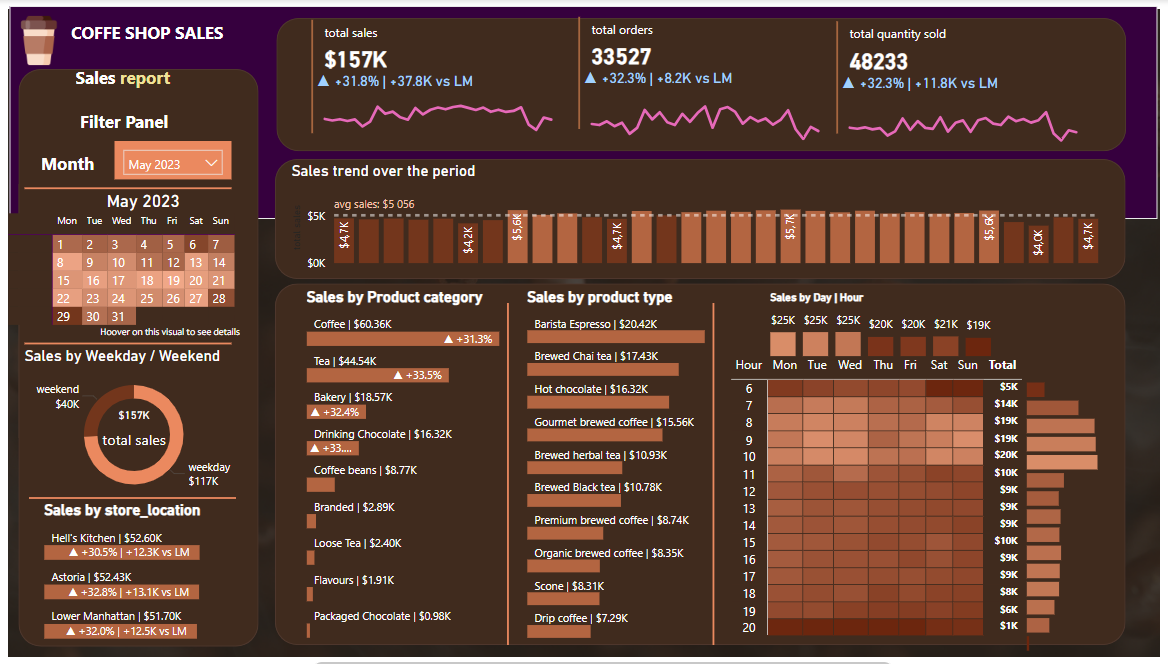

The dashboard page shown, as its layout file describes it:
{"tool":"powerbi","page":{"name":"Page 1","canvas":[3000,2000],"ordinal":0},"visuals":[{"type":"shape","box":[861.7,633.3,1275,236.7],"z":0},{"type":"image","box":[861.7,638.3,65,66.7],"z":1000},{"type":"textbox","box":[925,645,272.5,75],"z":2000},{"type":"shape","box":[871.7,703.3,266.7,641.7],"z":3000},{"type":"shape","box":[1158,646,944,148],"z":4000},{"type":"shape","box":[1156.7,803.3,945,133.3],"z":5000},{"type":"shape","box":[1156.7,941.7,945,401.7],"z":6000},{"type":"cardVisual","fields":{"Data":["Coffee Shop Sales.Total orders"]},"box":[1489,639.5,300,135.1],"z":7000,"group":"g2"},{"type":"cardVisual","fields":{"Data":["Coffee Shop Sales.tot"]},"box":[1192,642.8,300,136.7],"z":7000,"group":"g3"},{"type":"cardVisual","fields":{"Data":["Coffee Shop Sales.total quantity sold"]},"box":[1775.3,644.4,300,135.1],"z":7000,"group":"g4"},{"type":"slicer","fields":{"Values":["Date table.Month year"]},"box":[977.5,782.5,130,42.5],"z":7000},{"type":"group","id":"g1","title":"Group 1","box":[1192,642.8,300,148.3],"z":8000},{"type":"group","id":"g2","title":"Group 2","box":[1489,639.5,300,146.7],"z":9000},{"type":"lineChart","fields":{"Category":["Date table.Date.Variation.Date Hierarchy.Year","Date table.Date.Variation.Date Hierarchy.Quarter","Date table.Date.Variation.Date Hierarchy.Month","Date table.Date.Variation.Date Hierarchy.Day"],"Y":["Coffee Shop Sales.total orders"]},"box":[1494,702.1,281.7,84],"z":9000,"group":"g2"},{"type":"lineChart","fields":{"Y":["Coffee Shop Sales.total sales"],"Category":["Date table.Date.Variation.Date Hierarchy.Year","Date table.Date.Variation.Date Hierarchy.Quarter","Date table.Date.Variation.Date Hierarchy.Month","Date table.Date.Variation.Date Hierarchy.Day"]},"box":[1197,706.1,281.7,85],"z":9000,"group":"g3"},{"type":"lineChart","fields":{"Category":["Date table.Date.Variation.Date Hierarchy.Year","Date table.Date.Variation.Date Hierarchy.Quarter","Date table.Date.Variation.Date Hierarchy.Month","Date table.Date.Variation.Date Hierarchy.Day"],"Y":["Coffee Shop Sales.total quantity sold"]},"box":[1780.3,707,281.7,84],"z":9000,"group":"g4"},{"type":"group","id":"g3","title":"Group 2","box":[1192,642.8,300,148.3],"z":9002,"group":"g1"},{"type":"group","id":"g4","title":"Group 2","box":[1775.3,644.4,300,146.7],"z":10000},{"type":"pivotTable","fields":{"Rows":["Date table.week number"],"Columns":["Date table.Day Name"],"Values":["Min(Date table.Day Number)"]},"box":[855,857.5,277.5,145],"z":11000},{"type":"shape","box":[877.5,817.5,230,35],"z":12000},{"type":"shape","box":[877.5,982.5,230,50],"z":13000},{"type":"card","fields":{"Values":["Min(Date table.Month year)"]},"box":[895,815,230,70],"z":14000},{"type":"card","fields":{"Values":["Coffee Shop Sales.Foot note"]},"box":[947.5,980,182.5,35],"z":15000},{"type":"donutChart","title":"Sales by Weekday / Weekend","fields":{"Category":["Date table.weekday / weekend"],"Y":["Coffee Shop Sales.total sales"]},"box":[874,1012,252,176],"z":16000},{"type":"card","fields":{"Values":["Coffee Shop Sales.total sales"]},"box":[944.5,1070.4,109.5,59.9],"z":17000},{"type":"clusteredBarChart","title":"Sales by store_location","fields":{"Y":["Coffee Shop Sales.placeholder","Coffee Shop Sales.total sales"],"Category":["Coffee Shop Sales.store_location"]},"box":[895,1182.5,210,160],"z":18000},{"type":"shape","box":[883.3,1156.7,230,46.7],"z":19000},{"type":"columnChart","title":"Sales trend over the period","fields":{"Category":["Coffee Shop Sales.transaction_date"],"Y":["Coffee Shop Sales.total sales"]},"box":[1170,806,906,126],"z":20000},{"type":"clusteredBarChart","title":"Sales by Product category","fields":{"Y":["Coffee Shop Sales.placeholder","Coffee Shop Sales.total sales"],"Category":["Coffee Shop Sales.product_category"]},"box":[1186,946,256,394],"z":21000},{"type":"clusteredBarChart","title":"Sales by product type","fields":{"Y":["Coffee Shop Sales.placeholder","Coffee Shop Sales.total sales"],"Category":["Coffee Shop Sales.product_type"]},"box":[1432,946,242,394],"z":22000},{"type":"shape","box":[1400.2,962.8,31,380.3],"z":23000},{"type":"shape","box":[1627.9,962.8,31,380.3],"z":24000},{"type":"pivotTable","fields":{"Rows":["Coffee Shop Sales.Hour"],"Columns":["Date table.Day Name"],"Values":["Coffee Shop Sales.total sales"]},"box":[1658,1016,346,334],"z":25000},{"type":"barChart","fields":{"Category":["Coffee Shop Sales.Hour"],"Y":["Coffee Shop Sales.total sales"]},"box":[1986,1038,90,316],"z":26000},{"type":"columnChart","title":"Sales by Day | Hour","fields":{"Y":["Coffee Shop Sales.total sales"],"Category":["Date table.Day Name"]},"box":[1702,950,256,78],"z":27000},{"type":"textbox","box":[309,30.5,282,150],"z":28000},{"type":"textbox","box":[601,31,282,150],"z":29000},{"type":"textbox","box":[883,31,1254,150],"z":30000},{"type":"textbox","box":[2147,31,853,150],"z":31000},{"type":"textbox","box":[930,695,126.7,40],"z":32000},{"type":"textbox","box":[891.7,790,90,40],"z":33000},{"type":"textbox","box":[935,743.3,128.3,40],"z":34000}]}

Visuals, with their boxes on the page's 3000x2000 design canvas (x1, y1, x2, y2). These are canvas units, not pixel positions in the 1168x664 screenshot, which may show the page scaled, cropped or inside an application window:
shape: x1=862 y1=633 x2=2137 y2=870
image: x1=862 y1=638 x2=927 y2=705
textbox: x1=925 y1=645 x2=1198 y2=720
shape: x1=872 y1=703 x2=1138 y2=1345
shape: x1=1158 y1=646 x2=2102 y2=794
shape: x1=1157 y1=803 x2=2102 y2=937
shape: x1=1157 y1=942 x2=2102 y2=1343
cardVisual - Coffee Shop Sales.Total orders: x1=1489 y1=640 x2=1789 y2=775
cardVisual - Coffee Shop Sales.tot: x1=1192 y1=643 x2=1492 y2=780
cardVisual - Coffee Shop Sales.total quantity sold: x1=1775 y1=644 x2=2075 y2=780
slicer - Date table.Month year: x1=978 y1=782 x2=1108 y2=825
"Group 1" group: x1=1192 y1=643 x2=1492 y2=791
"Group 2" group: x1=1489 y1=640 x2=1789 y2=786
lineChart - Date table.Date.Variation.Date Hierarchy.Year x Date table.Date.Variation.Date Hierarchy.Quarter: x1=1494 y1=702 x2=1776 y2=786
lineChart - Coffee Shop Sales.total sales x Date table.Date.Variation.Date Hierarchy.Year: x1=1197 y1=706 x2=1479 y2=791
lineChart - Date table.Date.Variation.Date Hierarchy.Year x Date table.Date.Variation.Date Hierarchy.Quarter: x1=1780 y1=707 x2=2062 y2=791
"Group 2" group: x1=1192 y1=643 x2=1492 y2=791
"Group 2" group: x1=1775 y1=644 x2=2075 y2=791
pivotTable - Date table.week number x Date table.Day Name: x1=855 y1=858 x2=1132 y2=1002
shape: x1=878 y1=818 x2=1108 y2=852
shape: x1=878 y1=982 x2=1108 y2=1032
card - Min(Date table.Month year): x1=895 y1=815 x2=1125 y2=885
card - Coffee Shop Sales.Foot note: x1=948 y1=980 x2=1130 y2=1015
"Sales by Weekday / Weekend" donutChart: x1=874 y1=1012 x2=1126 y2=1188
card - Coffee Shop Sales.total sales: x1=944 y1=1070 x2=1054 y2=1130
"Sales by store_location" clusteredBarChart: x1=895 y1=1182 x2=1105 y2=1342
shape: x1=883 y1=1157 x2=1113 y2=1203
"Sales trend over the period" columnChart: x1=1170 y1=806 x2=2076 y2=932
"Sales by Product category" clusteredBarChart: x1=1186 y1=946 x2=1442 y2=1340
"Sales by product type" clusteredBarChart: x1=1432 y1=946 x2=1674 y2=1340
shape: x1=1400 y1=963 x2=1431 y2=1343
shape: x1=1628 y1=963 x2=1659 y2=1343
pivotTable - Coffee Shop Sales.Hour x Date table.Day Name: x1=1658 y1=1016 x2=2004 y2=1350
barChart - Coffee Shop Sales.Hour x Coffee Shop Sales.total sales: x1=1986 y1=1038 x2=2076 y2=1354
"Sales by Day | Hour" columnChart: x1=1702 y1=950 x2=1958 y2=1028
textbox: x1=309 y1=30 x2=591 y2=180
textbox: x1=601 y1=31 x2=883 y2=181
textbox: x1=883 y1=31 x2=2137 y2=181
textbox: x1=2147 y1=31 x2=3000 y2=181
textbox: x1=930 y1=695 x2=1057 y2=735
textbox: x1=892 y1=790 x2=982 y2=830
textbox: x1=935 y1=743 x2=1063 y2=783
